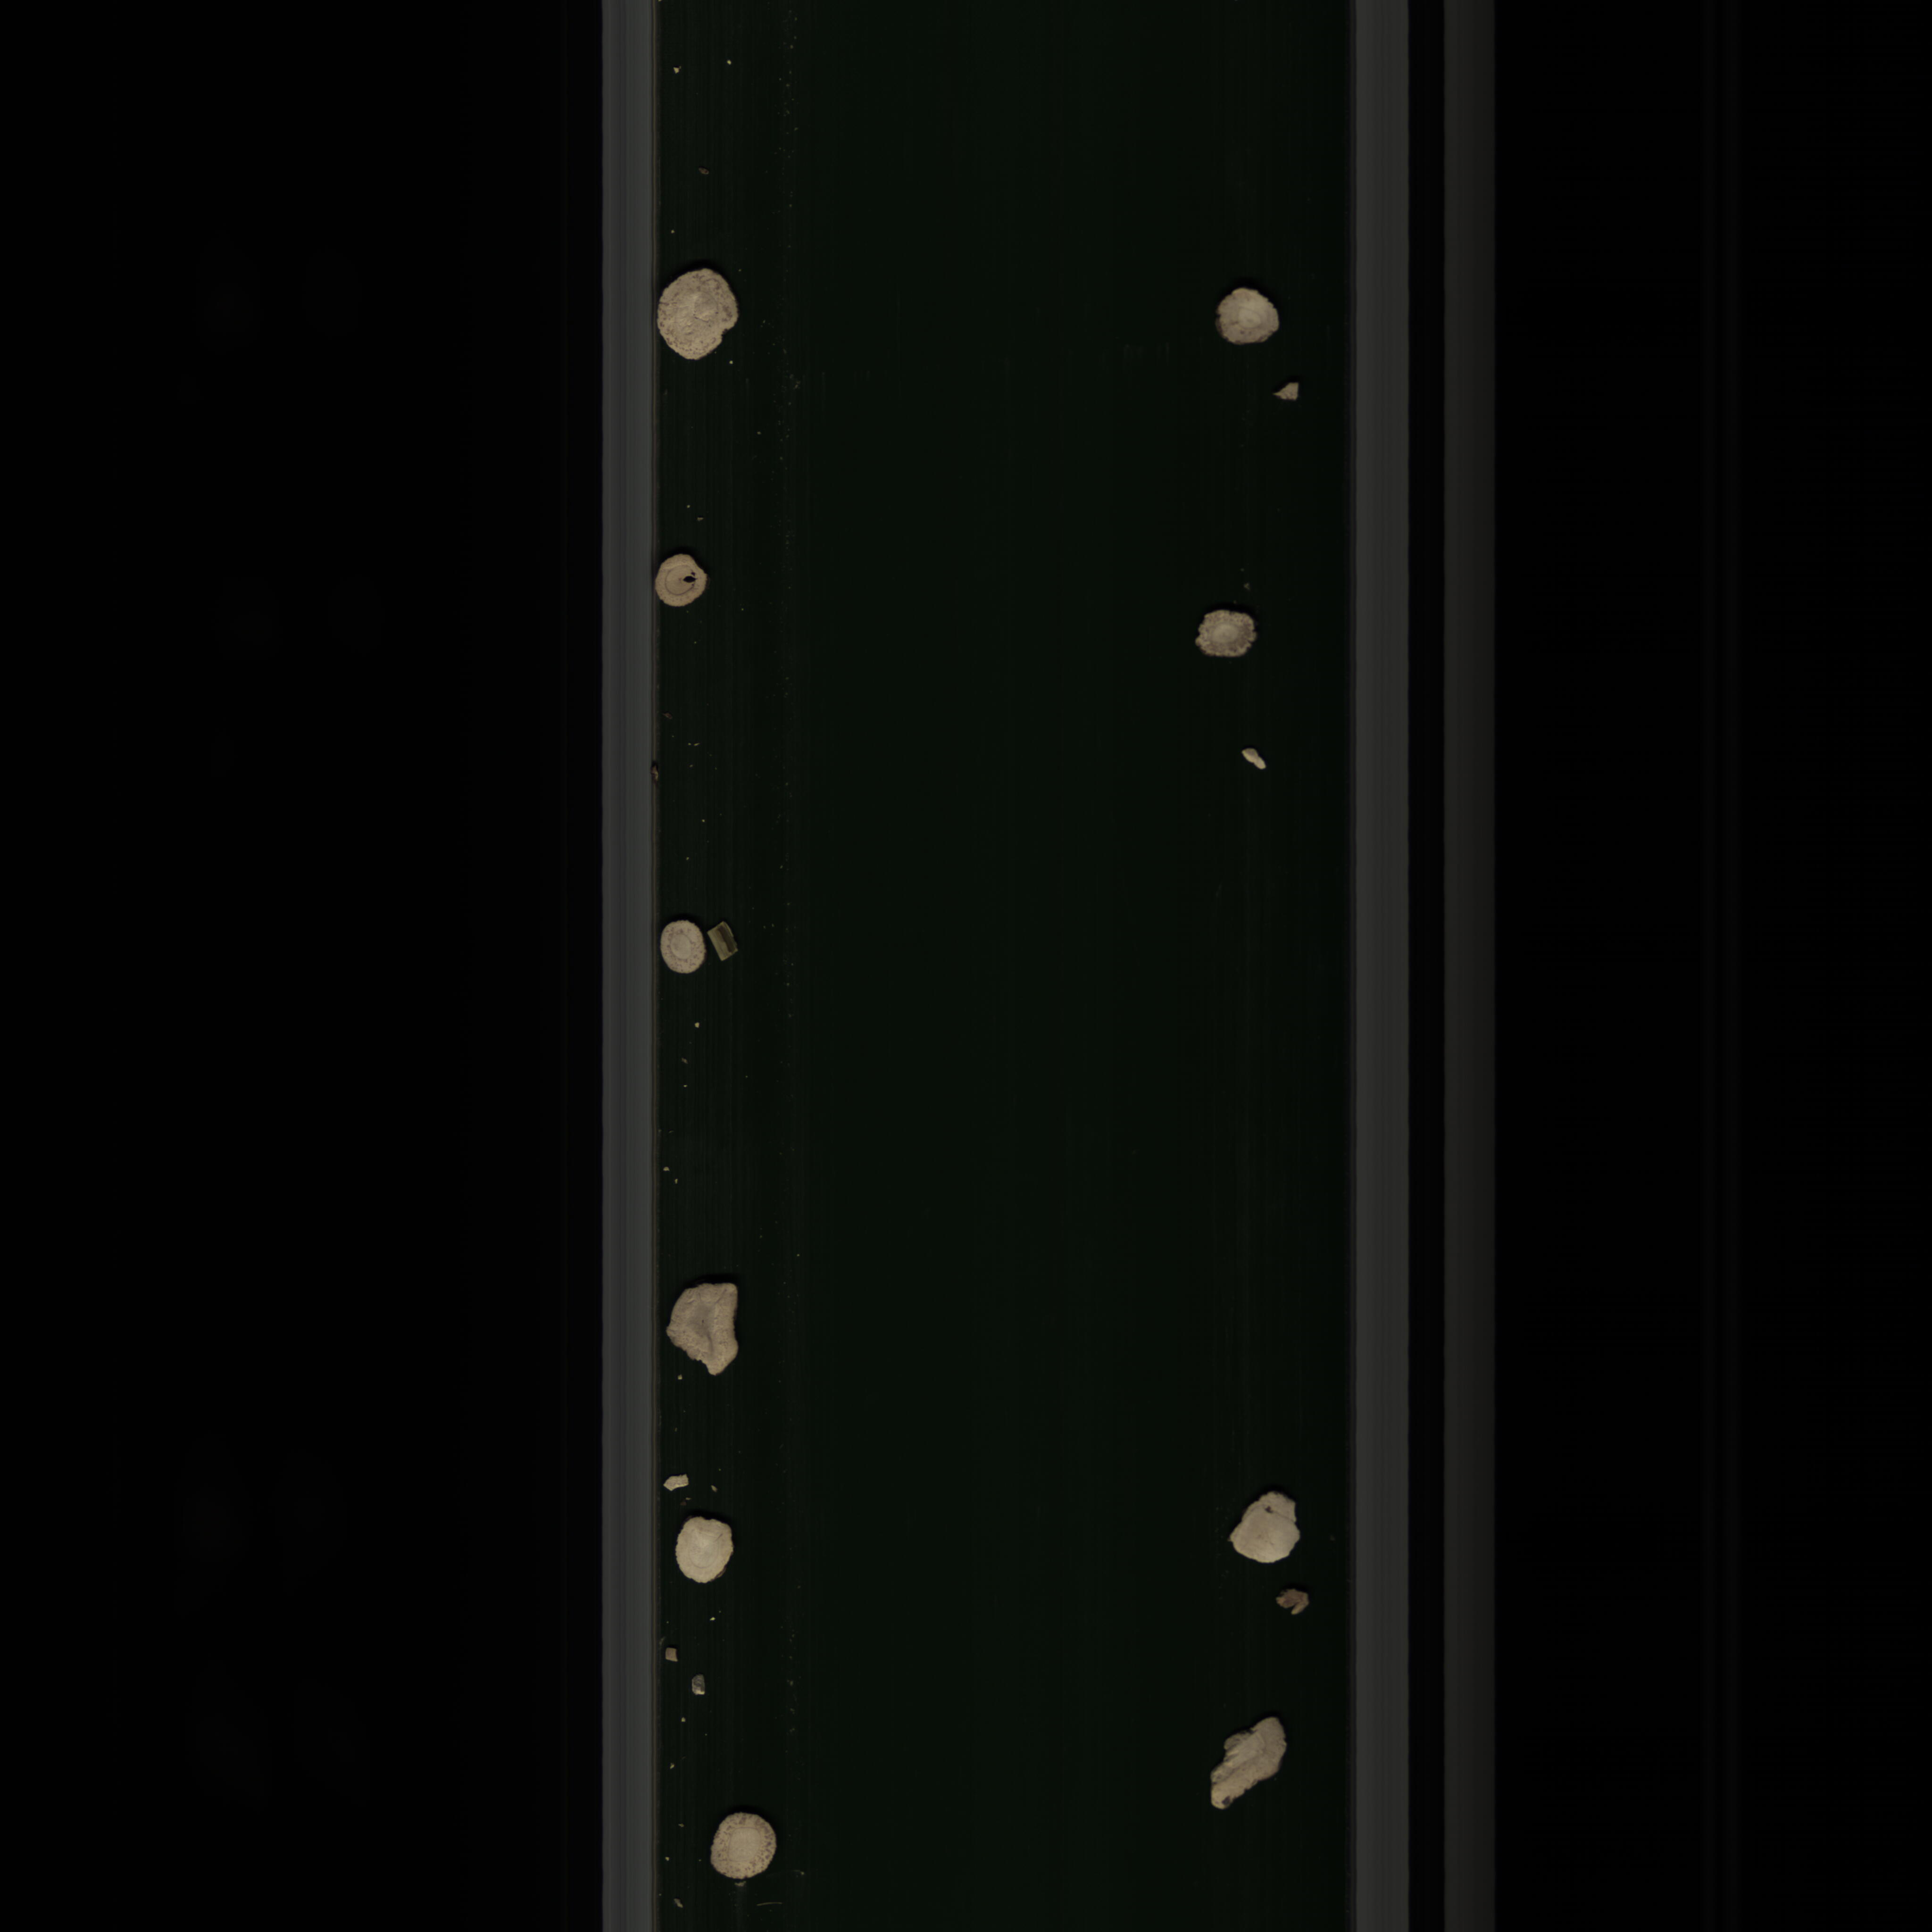debris: (658, 1279, 757, 1389), (1214, 1483, 1311, 1573), (1231, 740, 1277, 780)
distortion: (1207, 1714, 1300, 1813), (1184, 591, 1267, 672)
hole: (651, 552, 717, 614)
